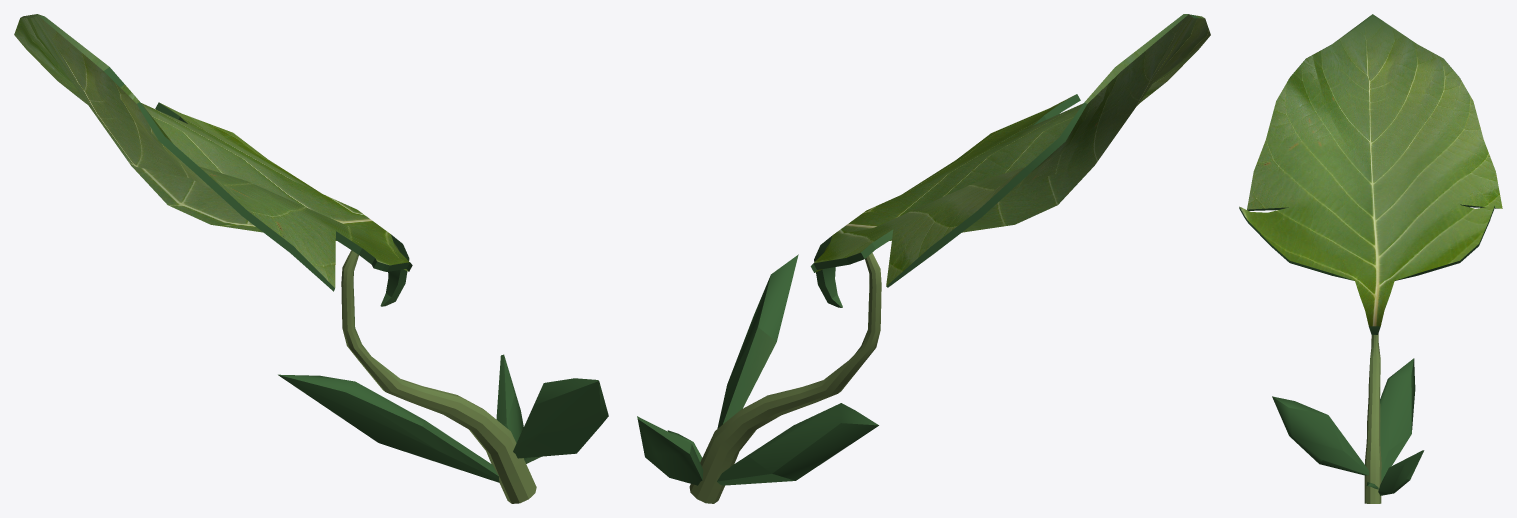
File: largeleaf.fbx
3 views of the same model, side by side, from view 1: azimuth 30°, elevation 25°; view 2: azimuth 150°, elevation 25°; view 3: azimuth 270°, elevation 25° (orthographic). The views are drawn at different scales.
Visible parts, largest first — view 1: leafLarge, pasted__leaf (×2), stem, leaf1; view 2: leafLarge, pasted__leaf (×2), stem, leaf1; view 3: leafLarge, pasted__leaf (×2), leaf1, stem.
Boxes of the visible parts, box(x1,y1,x2,y2) form: leafLarge: box(14, 14, 412, 306); pasted__leaf (×2): box(278, 354, 523, 482); stem: box(341, 250, 536, 503); leaf1: box(513, 378, 608, 458); leafLarge: box(810, 14, 1210, 307); pasted__leaf (×2): box(637, 403, 878, 485); stem: box(689, 252, 881, 503); leaf1: box(717, 254, 798, 428); leafLarge: box(1239, 14, 1502, 334); pasted__leaf (×2): box(1378, 358, 1424, 495); leaf1: box(1272, 396, 1369, 475); stem: box(1364, 333, 1381, 503).
Bounding box in the file's own units: 2.73 × 3 × 2.02.
